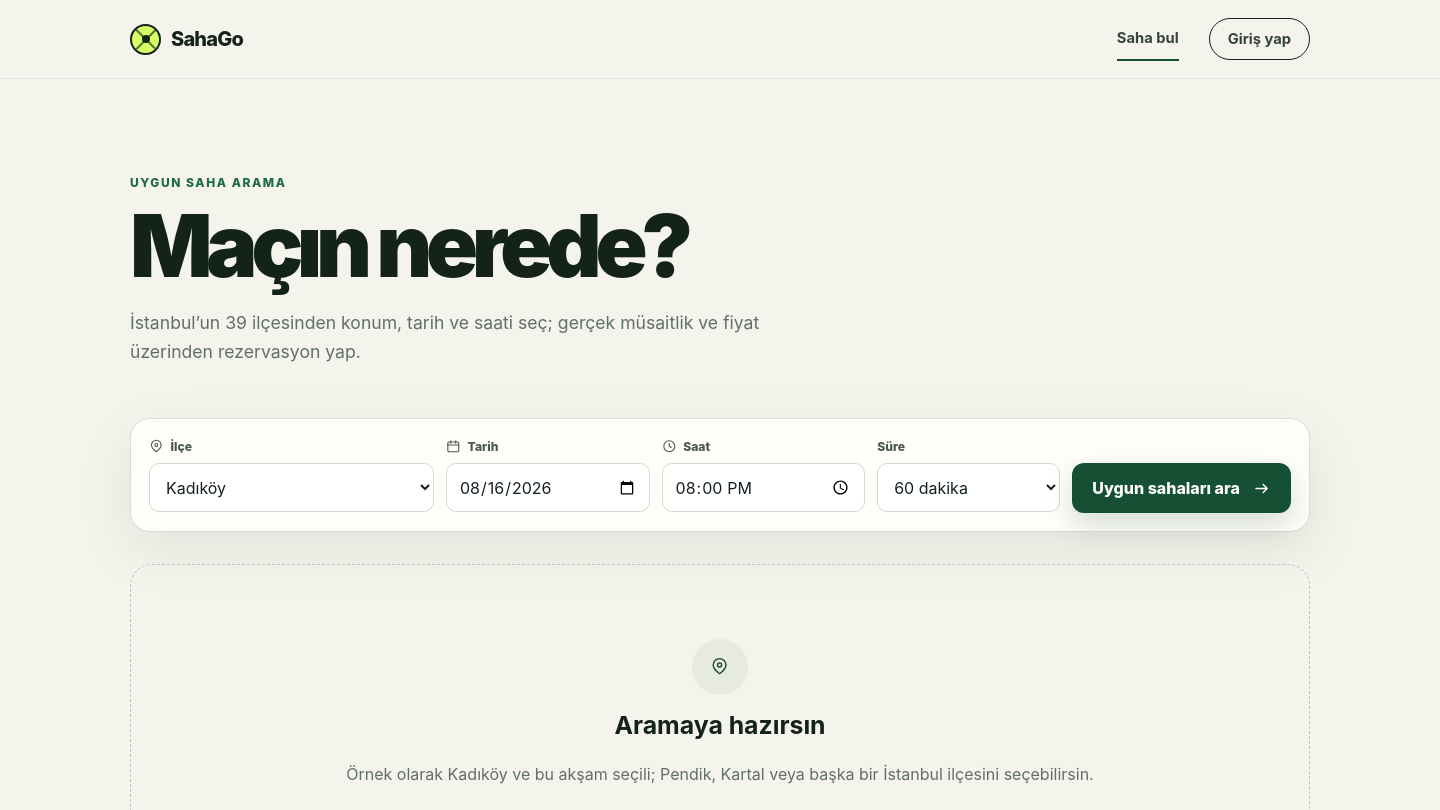
frontend routes › shows loading while the availability API is working
Step 1. Click the button "Uygun sahaları ara" → (1182, 488), box 1072,463 -> 1291,513
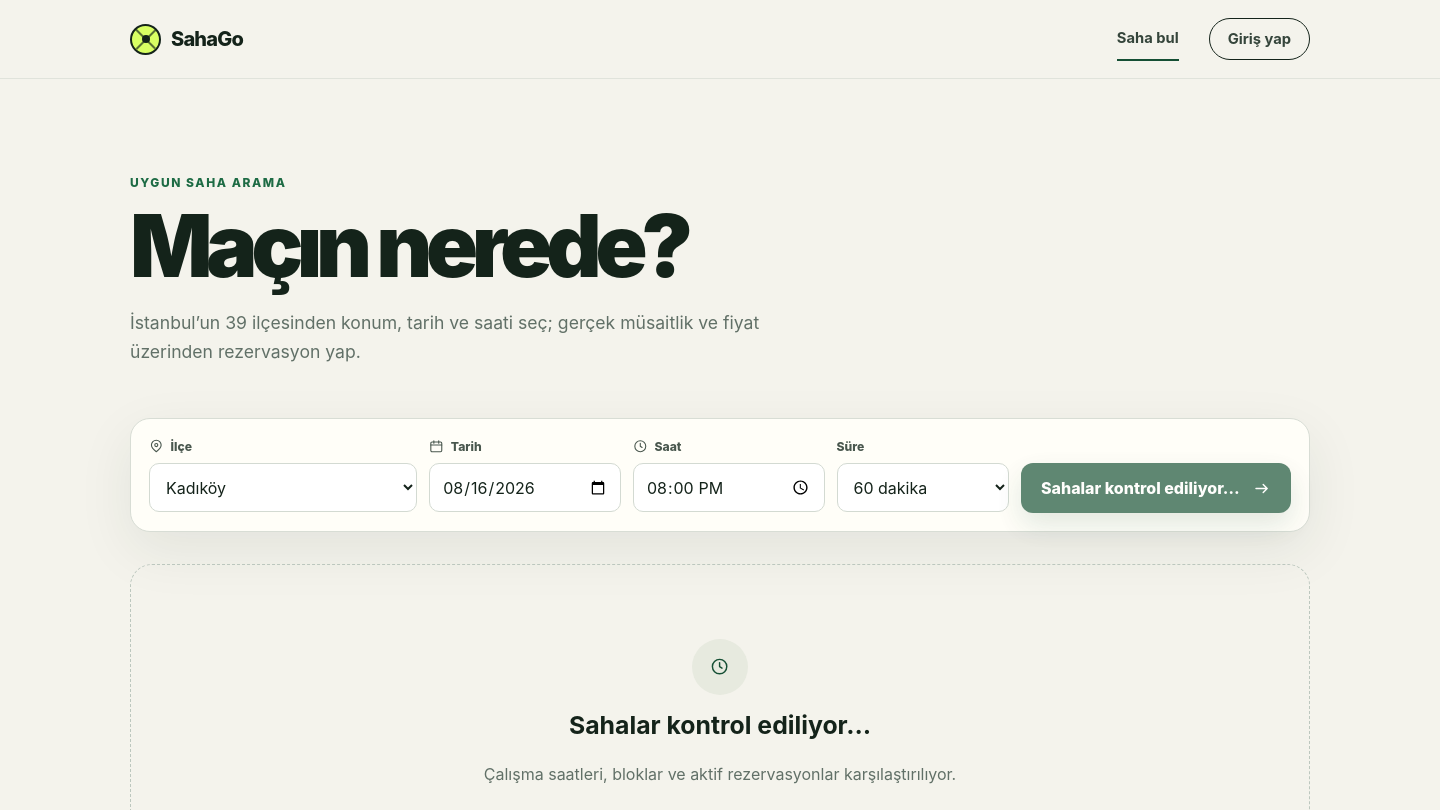
Expected: the heading "Sahalar kontrol ediliyor…" is shown, 569,710 -> 871,740
